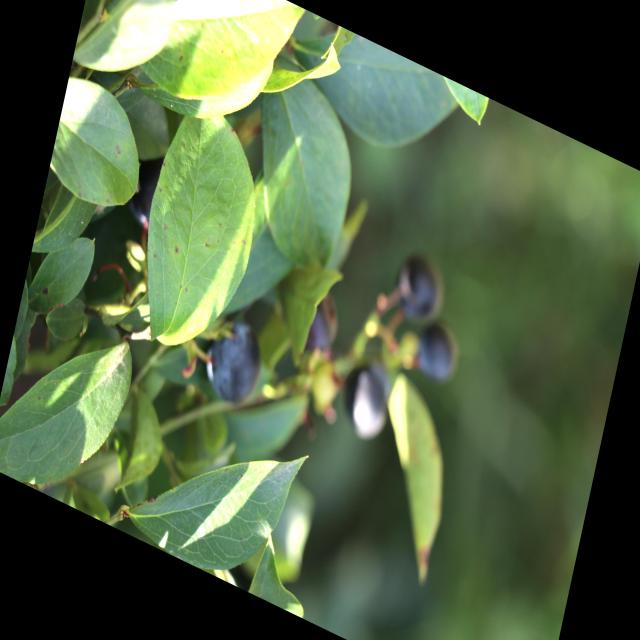blueberry: (200, 313, 270, 416), (334, 354, 398, 451), (391, 252, 447, 328), (296, 280, 348, 358), (412, 316, 461, 389)
